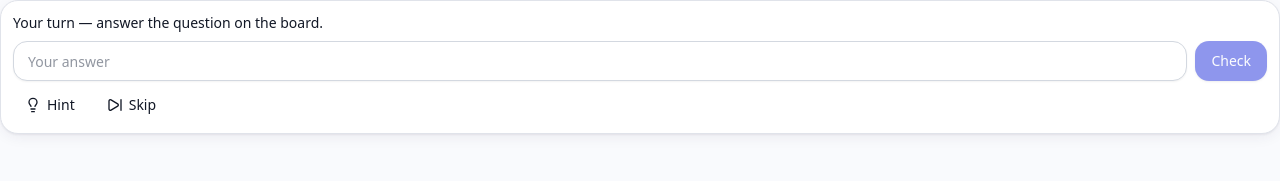
TalkBar: review fixes › a new question with the same id starts with its hint hidden
Click the button "Hint": point(50, 105) top-left (13, 89), bottom-right (87, 121)
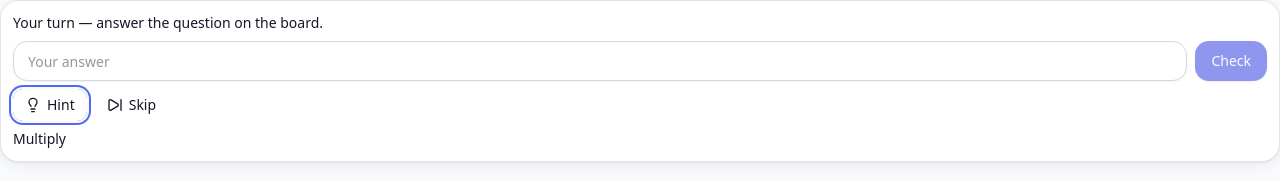
Now the text "Multiply" is shown, box top-left (13, 129), bottom-right (66, 148)
